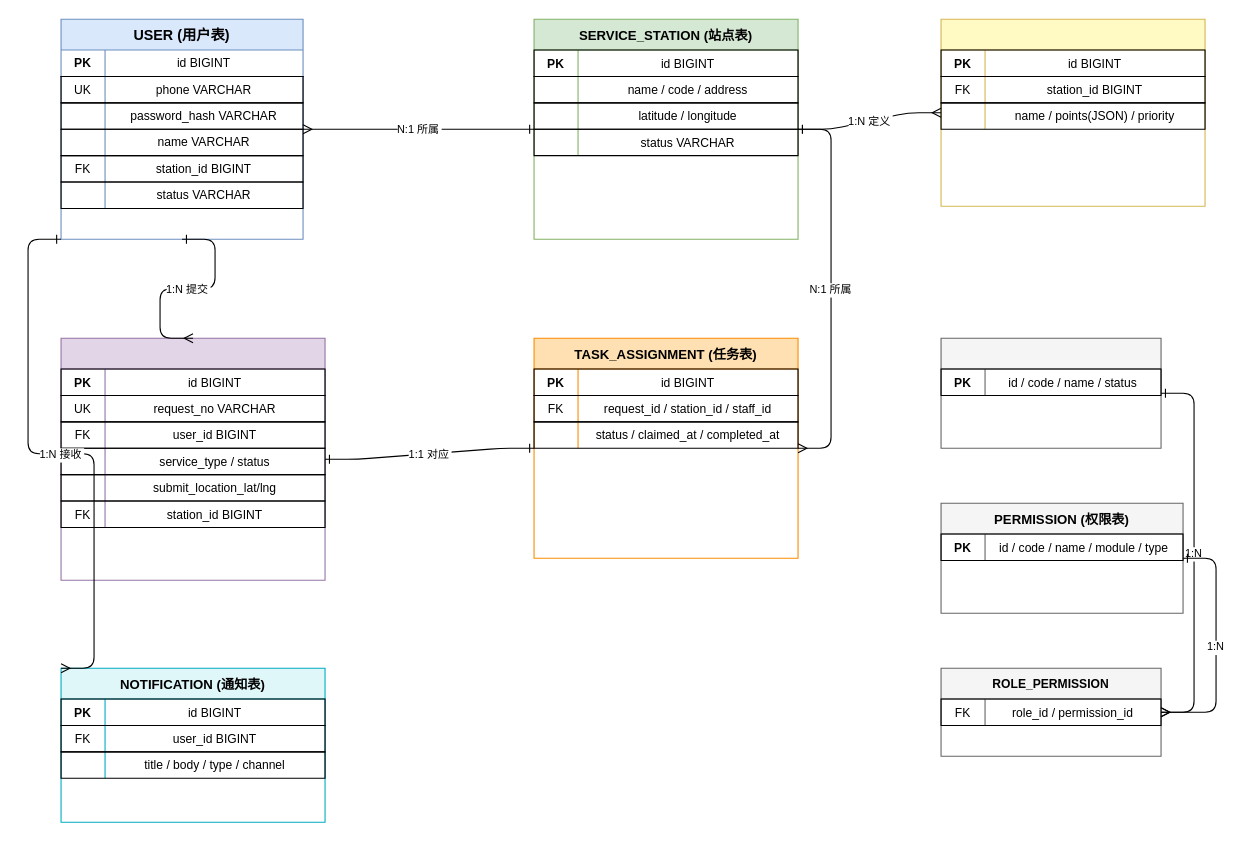
This 1245x842 diagram has some shape labels left out. Each missing label, with the box of its shape:
ROLE (角色表): (940, 337, 1161, 448)
SERVICE_REQUEST (需求表): (60, 337, 325, 580)
SERVICE_ZONE (围栏表): (940, 18, 1205, 206)
